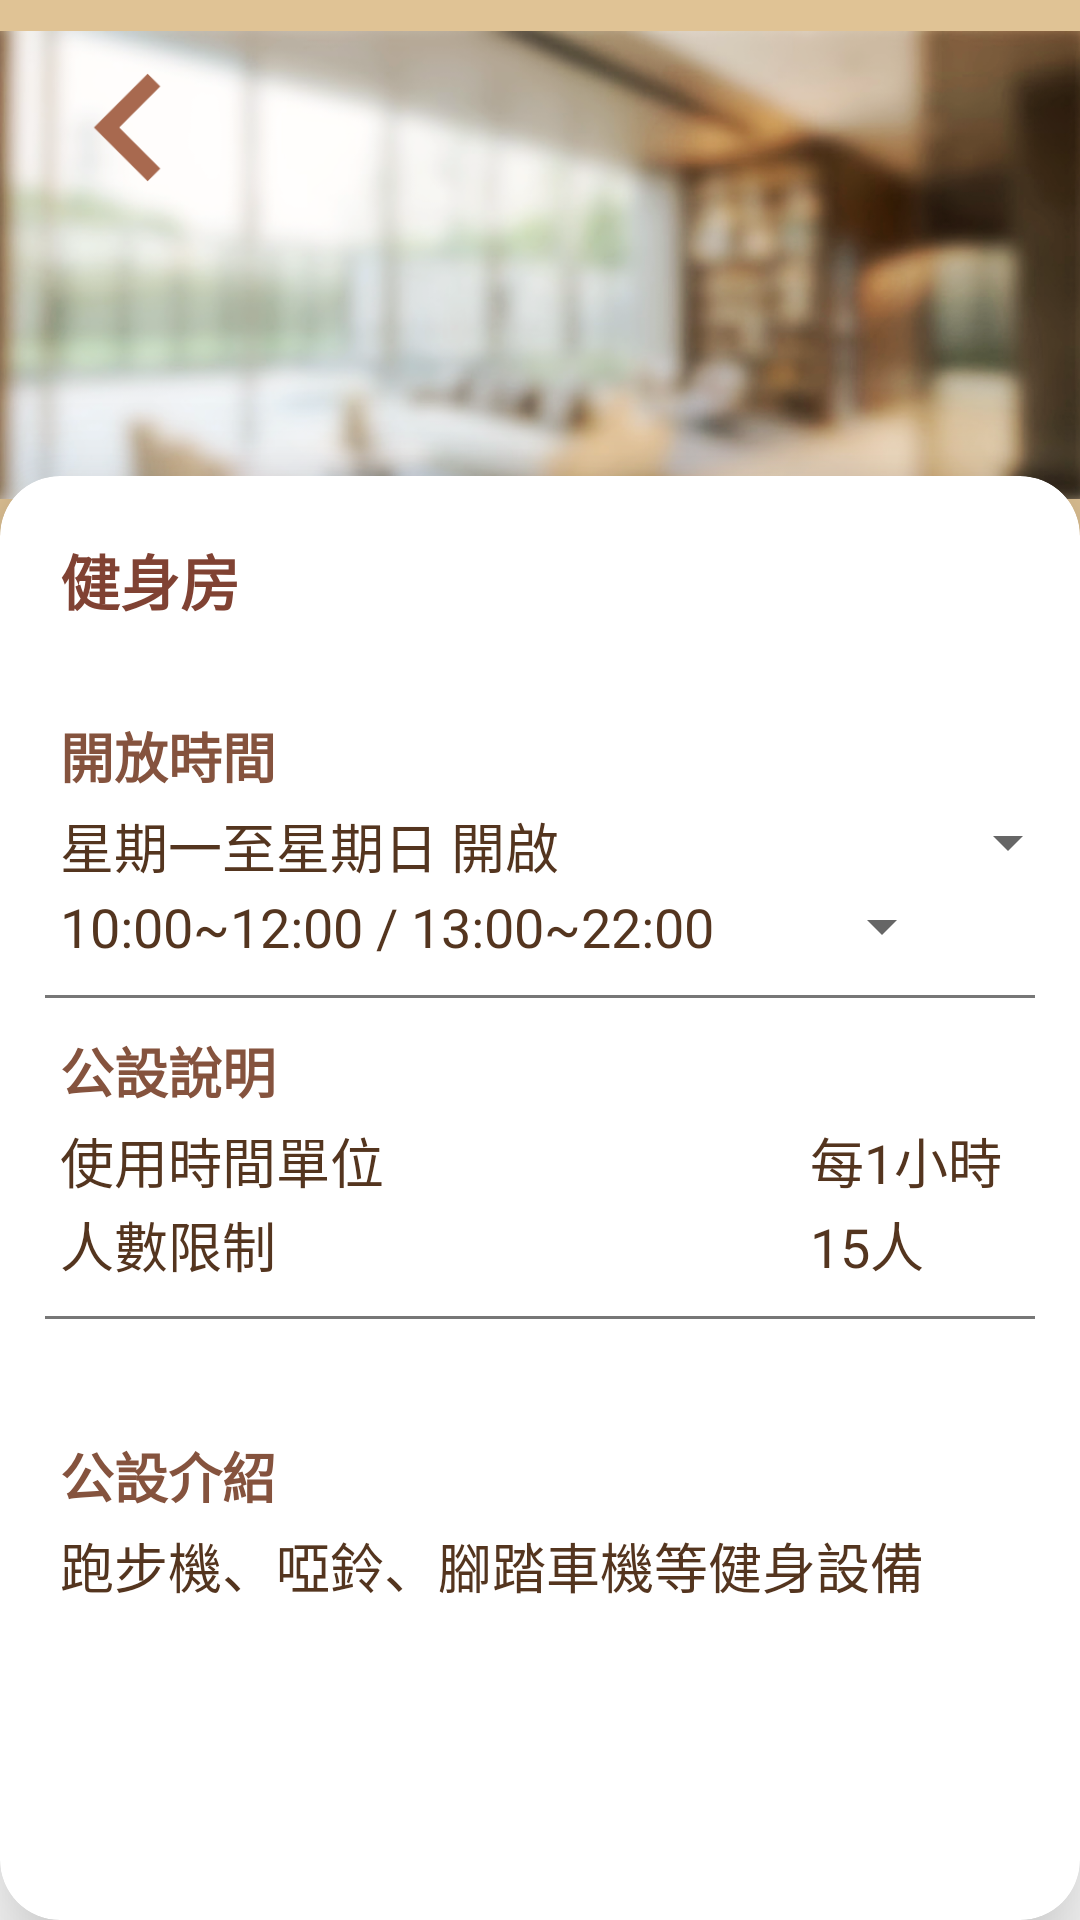

Where icons sit on this 1080*1920 app screen, as (x1, y1, x2, y2):
previous page: (94, 74, 161, 181)
